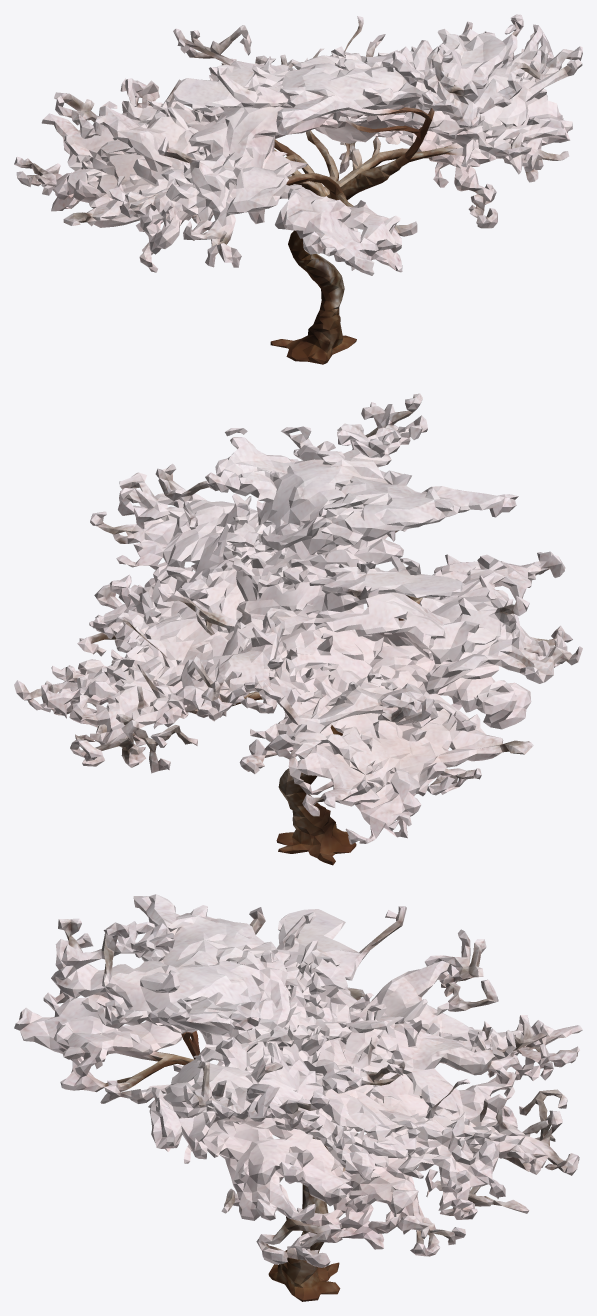
Rendered from source.glb.
3 renders of one model, top to bottom at view 1: azimuth 30°, elevation 25°; view 2: azimuth 150°, elevation 25°; view 3: azimuth 270°, elevation 25°, orthographic. The views are drawn at different scales.
Visible parts, largest first — view 1: model; view 2: model; view 3: model.
Boxes of the visible parts, x1,y1,x2,y2 form: model: (14,14,582,364); model: (14,393,582,865); model: (14,894,582,1301).
Size of the model in its own units: 1.89 by 1.39 by 1.9.
Materials: 1 (1 with a texture image).
